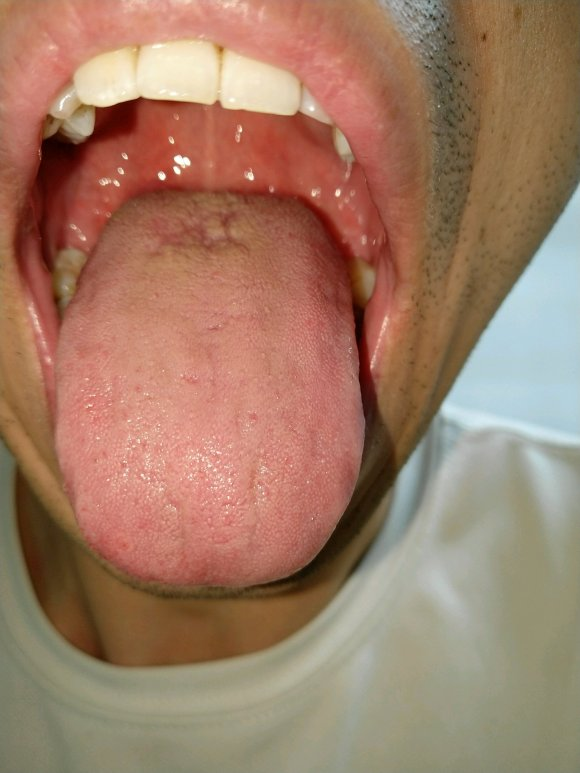huangtaishe: (55, 190, 364, 589)
